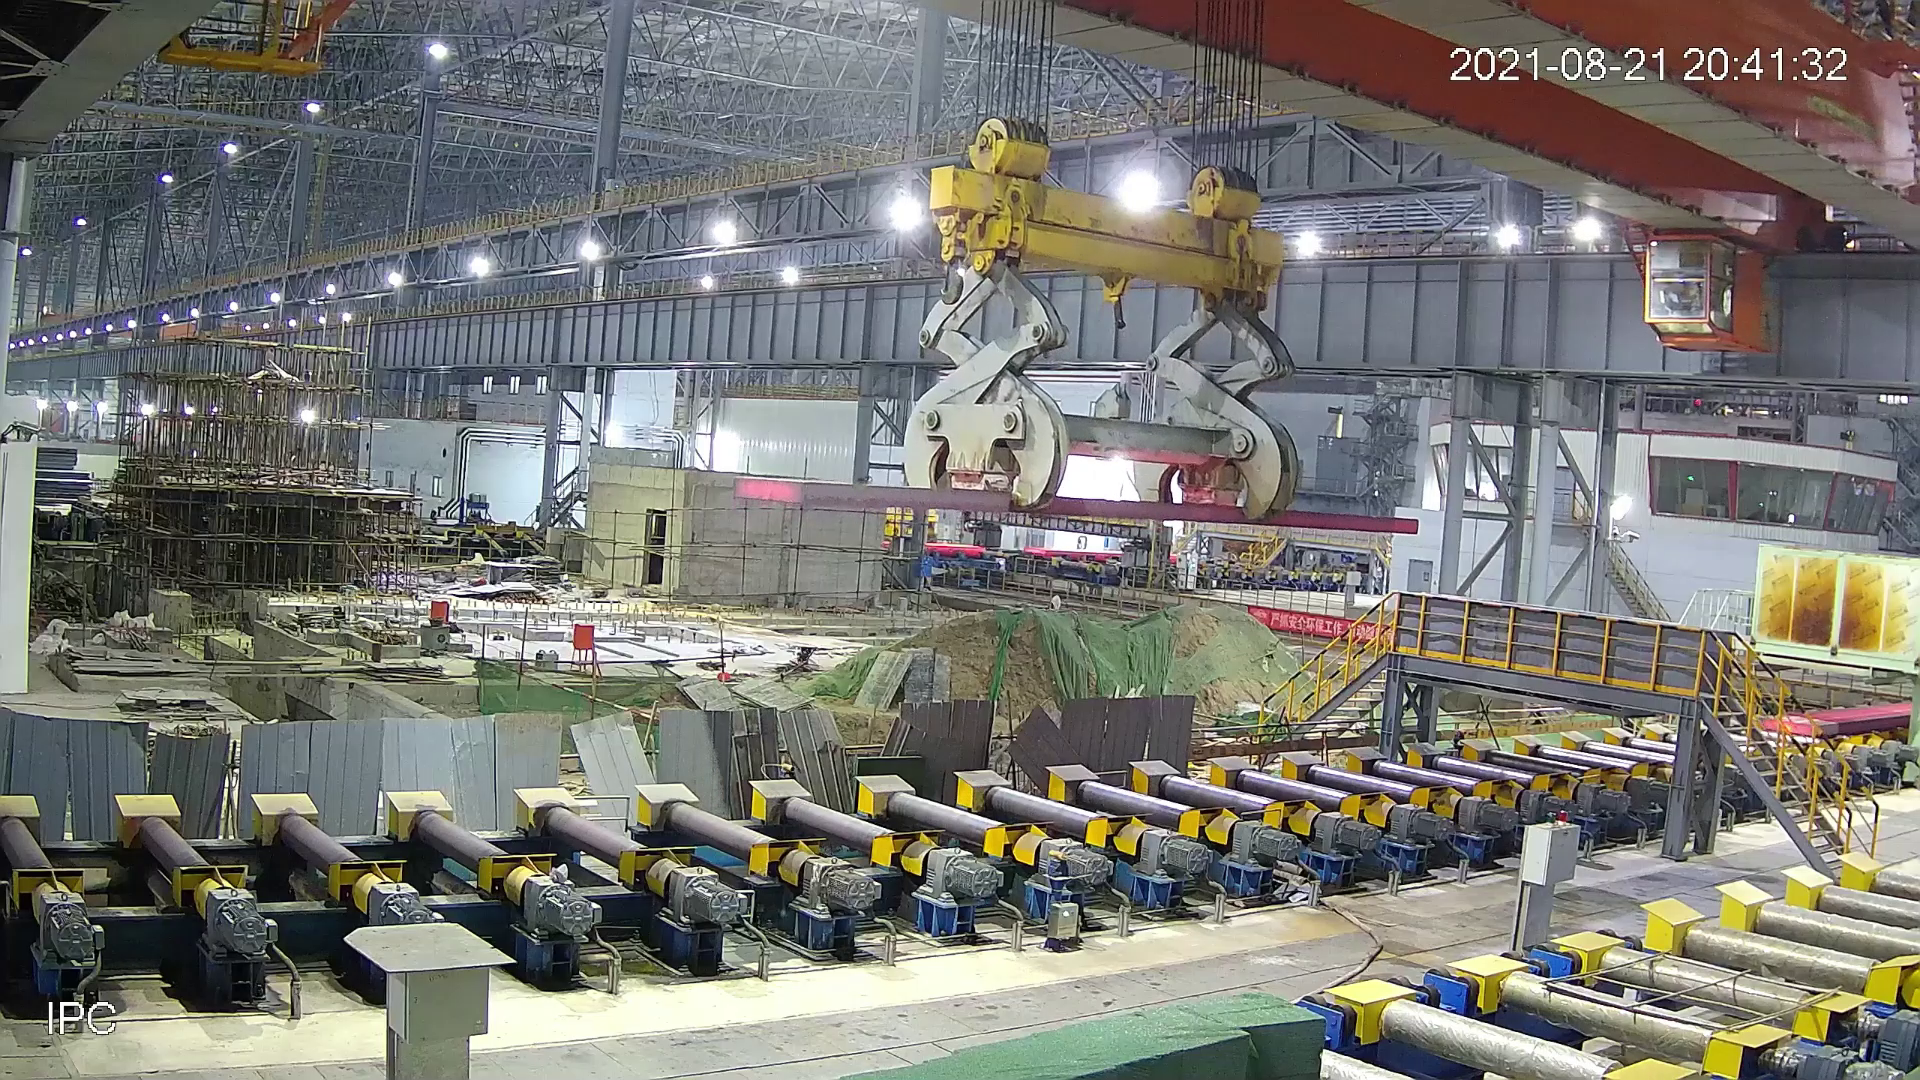craneandslab: (727, 115, 1429, 542)
slab: (1753, 694, 1917, 738)
